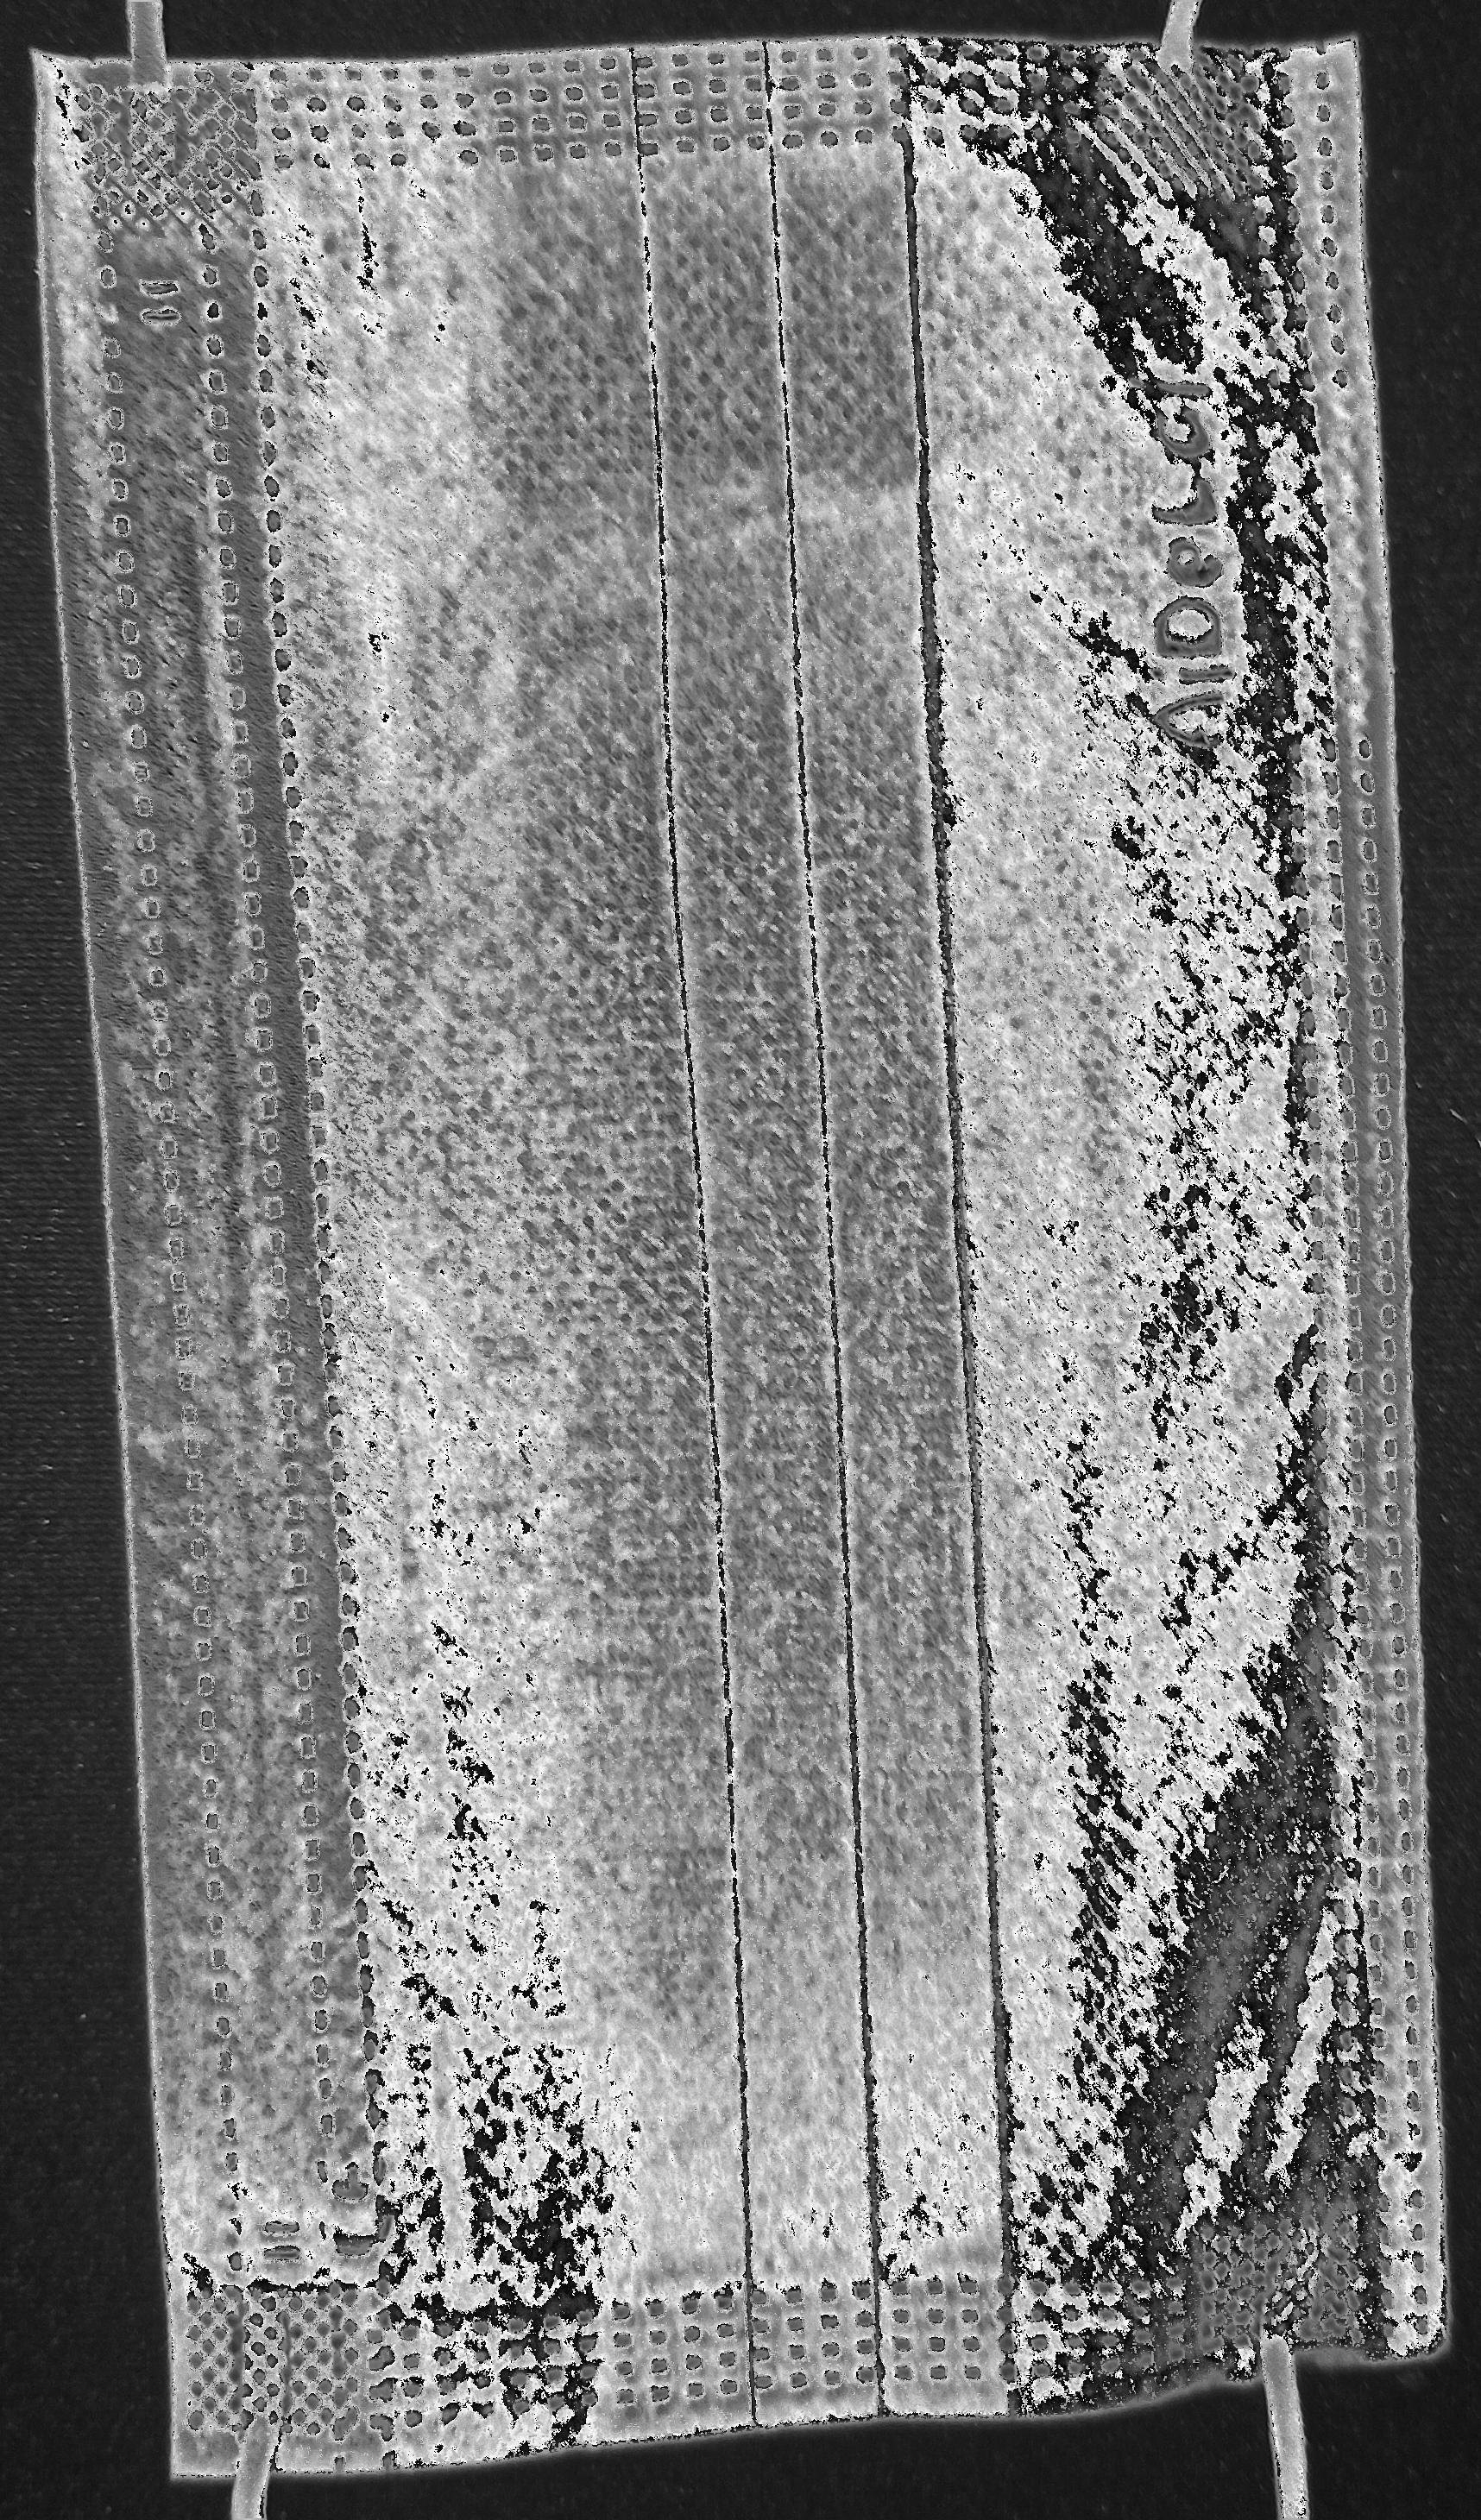Low GSM: (353, 263, 1312, 2175)
